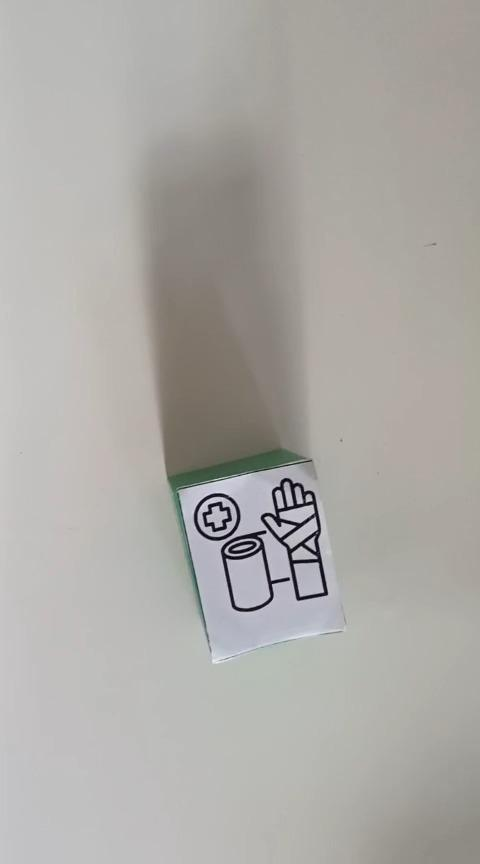Bandages: (167, 446, 346, 663)
